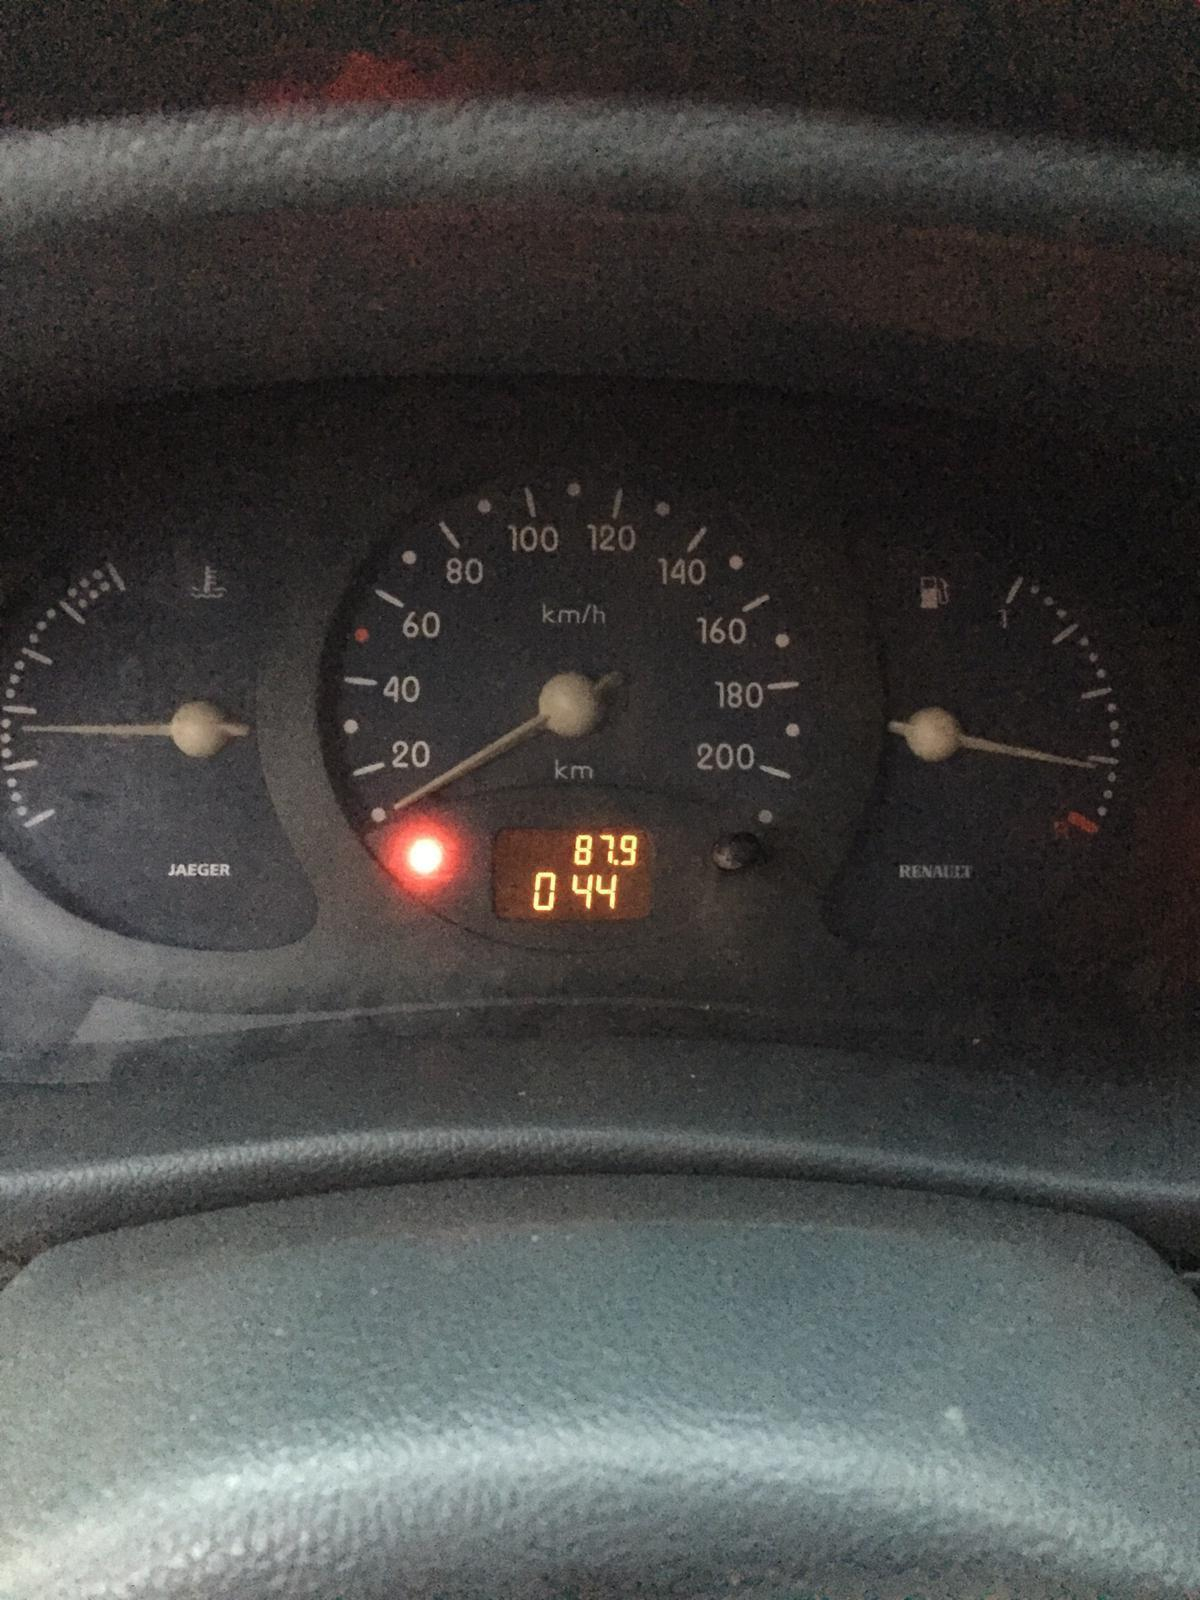,: (613, 858, 620, 866)
0: (532, 871, 556, 911)
4: (570, 872, 594, 910), (594, 873, 616, 910)
7: (599, 833, 614, 864)
8: (574, 834, 592, 866)
9: (619, 834, 638, 866)
odometer: (488, 821, 661, 926)
